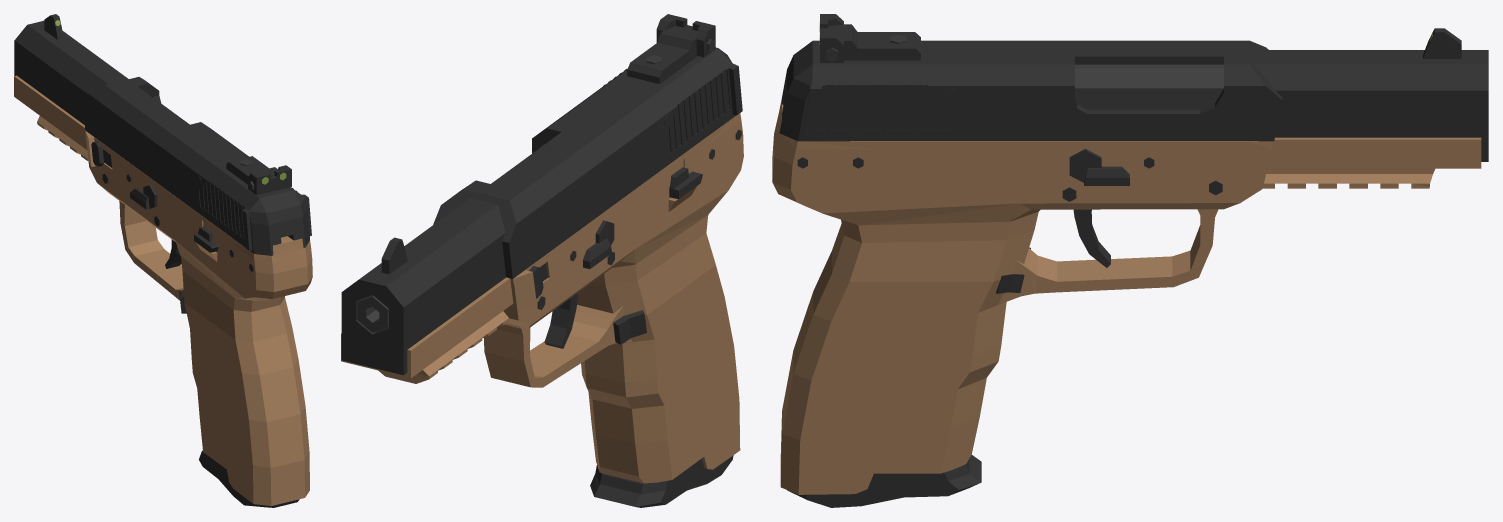
Rendered from fiveseven.glb.
3 views of the same model, side by side, from view 1: azimuth 30°, elevation 25°; view 2: azimuth 150°, elevation 25°; view 3: azimuth 270°, elevation 25° (orthographic). The views are drawn at different scales.
Parts seen in each view (by area): view 1: body; view 2: body; view 3: body.
Part boxes in pixels (x1,y1,x2,y2): body: (14, 14, 312, 507); body: (341, 14, 743, 507); body: (772, 14, 1488, 507).
Bounding box in the file's own units: 0.033 × 0.1487 × 0.208.
